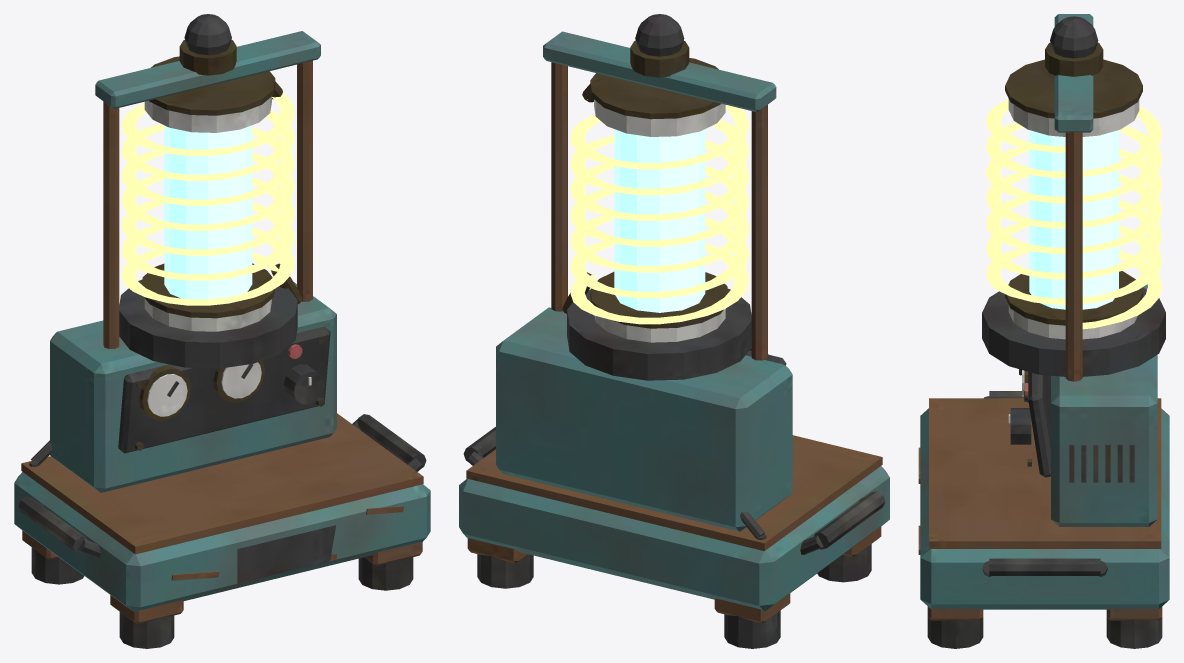
File: Y18_glowing_coil_machine.glb
The picture shows the model from 3 angles, left to right: view 1: azimuth 30°, elevation 25°; view 2: azimuth 150°, elevation 25°; view 3: azimuth 270°, elevation 25°; orthographic projection. The views are drawn at different scales.
Visible parts, largest first — view 1: Rubber vibration foot; view 2: Rubber vibration foot; view 3: Rubber vibration foot.
Boxes of the visible parts, left/top/right/bottom form: Rubber vibration foot: left=14, top=14, right=430, bottom=648; Rubber vibration foot: left=459, top=14, right=889, bottom=648; Rubber vibration foot: left=918, top=14, right=1169, bottom=648.
Bounding box in the file's own units: 1.68 × 2.5 × 1.02.
Materials: 9 (7 with a texture image).
